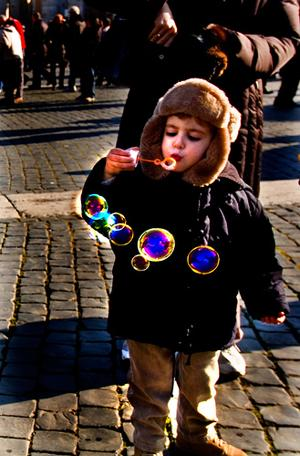person: (79, 75, 287, 456)
